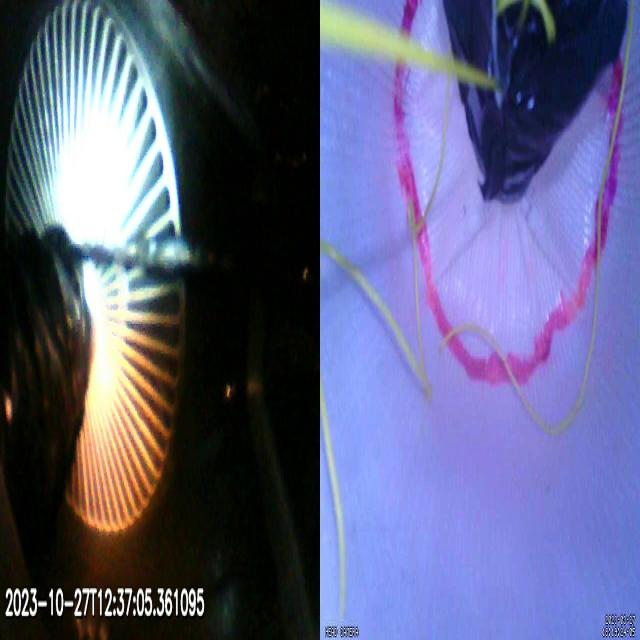red-circle: (392, 4, 624, 386)
